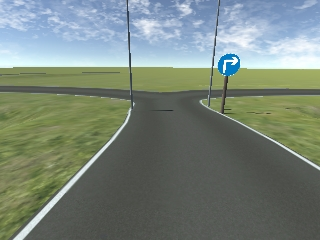right: (218, 53, 240, 75)
